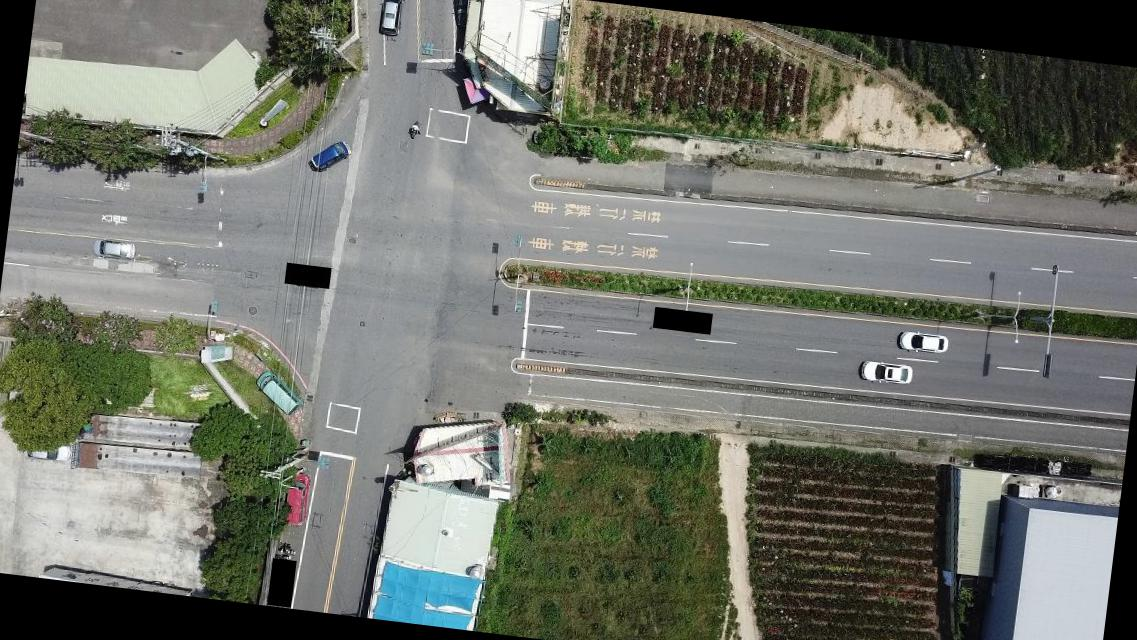vehicle: (250, 370, 304, 417), (854, 356, 915, 388), (281, 468, 314, 527), (306, 136, 351, 177), (893, 326, 951, 356), (372, 0, 407, 46), (19, 437, 71, 464), (91, 234, 138, 262), (446, 0, 470, 27)
